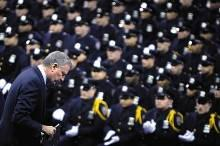bending: (1, 49, 73, 146)
